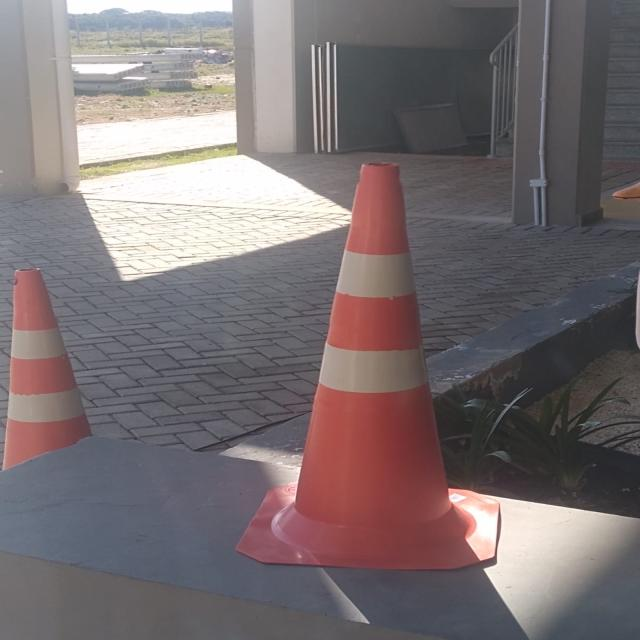cone: (234, 160, 503, 573), (0, 265, 94, 475)
